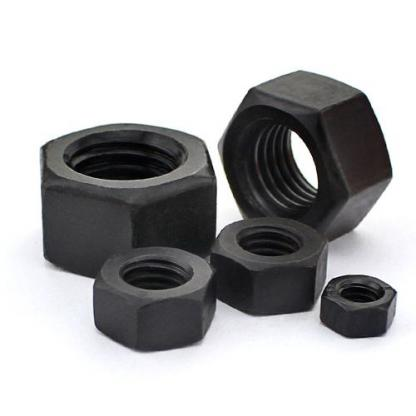FOD: (218, 67, 396, 243), (37, 119, 218, 280), (85, 243, 216, 354), (207, 216, 327, 320), (318, 269, 401, 339)
